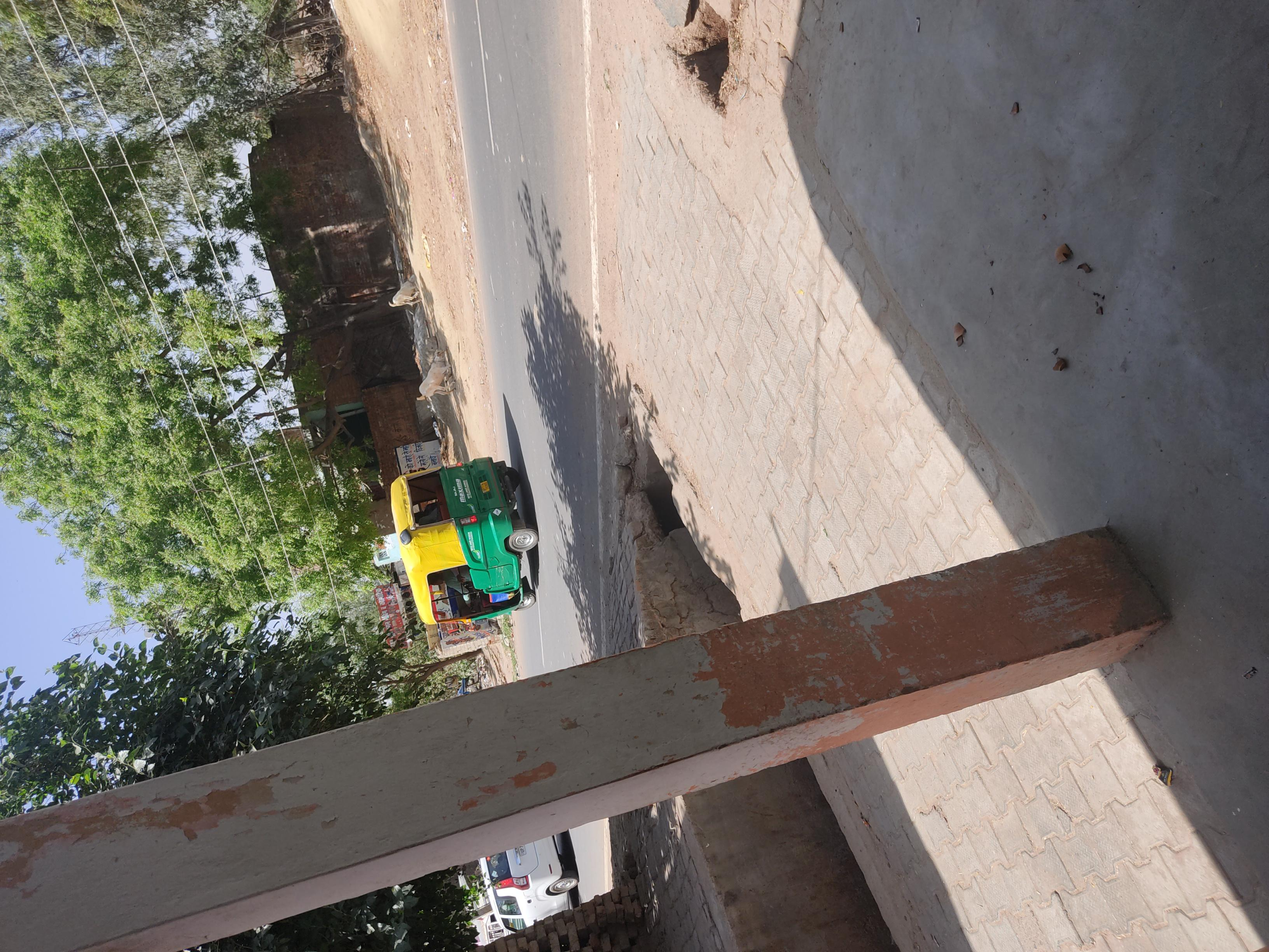Auto: (422, 296, 682, 411)
